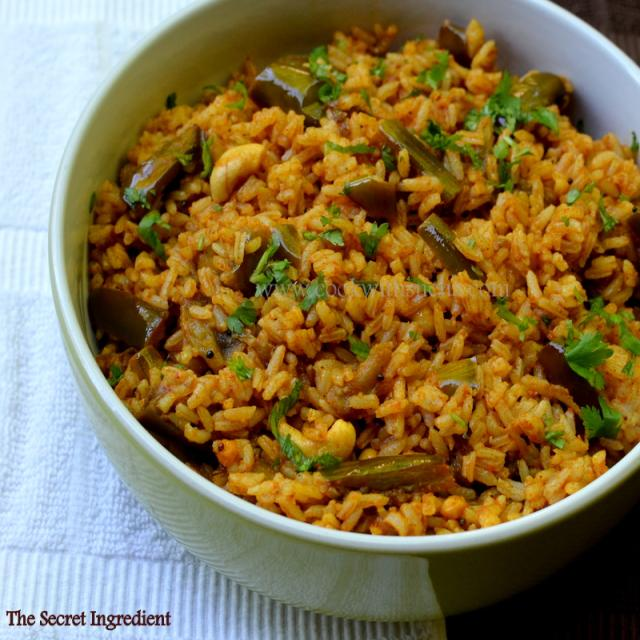vangi bath: (73, 9, 640, 553)
